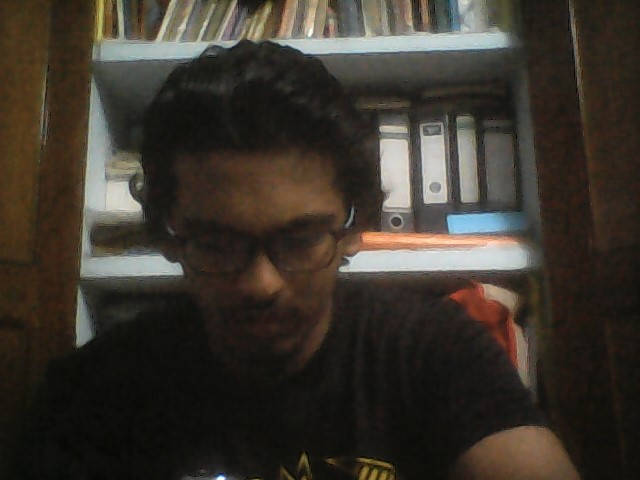person: (40, 39, 520, 476)
smartwatch: (165, 459, 240, 479)
